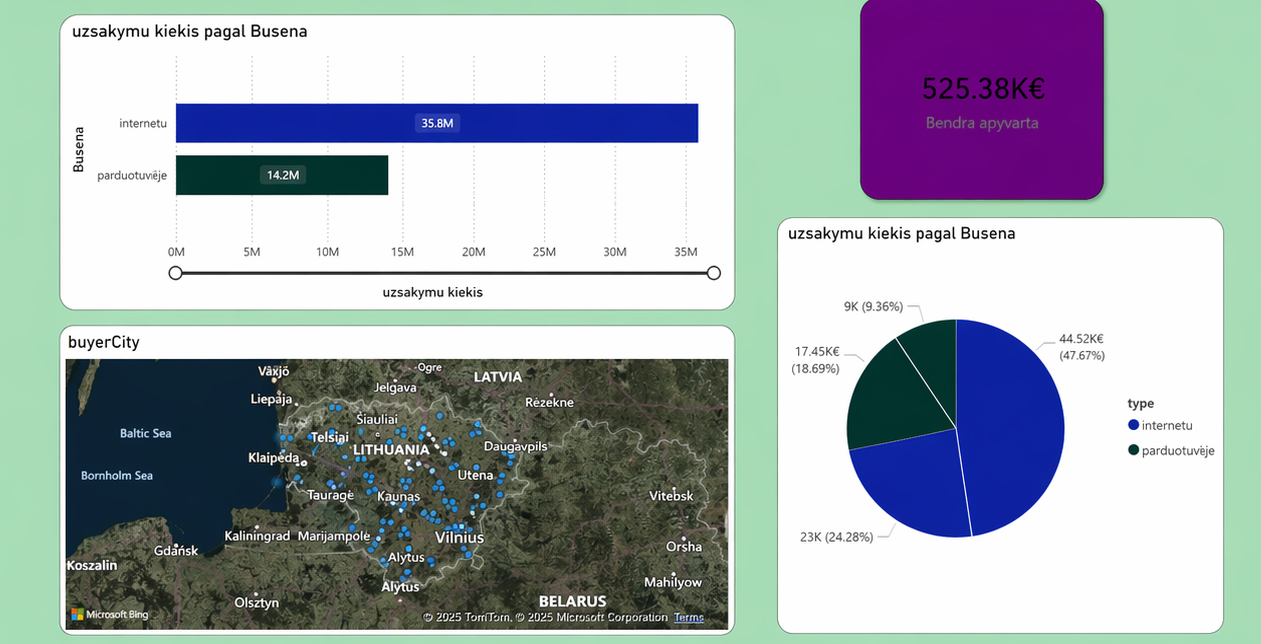

What the dashboard file says about the page in this screenshot:
{"tool":"powerbi","page":{"name":"Izanga","canvas":[1280,720],"ordinal":0},"visuals":[{"type":"barChart","title":"uzsakymu kiekis pagal Busena","fields":{"Category":["pardavimai-duomenys.type"],"Y":["Sum(pardavimai-duomenys.id)"]},"box":[14.3,33.4,709.4,314.9],"z":0},{"type":"map","fields":{"Category":["pardavimai.buyerCity"]},"box":[13.2,404.4,710.6,315.6],"z":1000},{"type":"card","title":"uzsakymu kiekis pagal Busena","fields":{"Values":["Sum(pardavimai.orderPrice)"]},"box":[894.9,0,265,219.6],"z":2000},{"type":"pieChart","title":"uzsakymu kiekis pagal Busena","fields":{"Category":["pardavimai.type"],"Y":["Sum(pardavimai.shippingPrice)","Sum(pardavimai.productsCount)"]},"box":[776.2,238.6,504.2,482],"z":3000}]}

Visuals, with their boxes on the page's 1280x720 design canvas (x1, y1, x2, y2). These are canvas units, not pixel positions in the 1261x644 screenshot, which may show the page scaled, cropped or inside an application window:
"uzsakymu kiekis pagal Busena" barChart: [14,33,724,348]
map - pardavimai.buyerCity: [13,404,724,720]
"uzsakymu kiekis pagal Busena" card: [895,0,1160,220]
"uzsakymu kiekis pagal Busena" pieChart: [776,239,1280,721]
